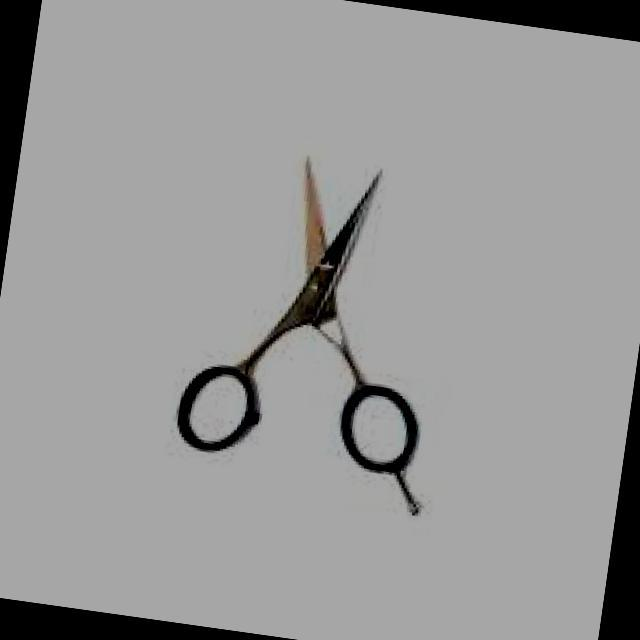Scissors: (148, 132, 480, 538)
